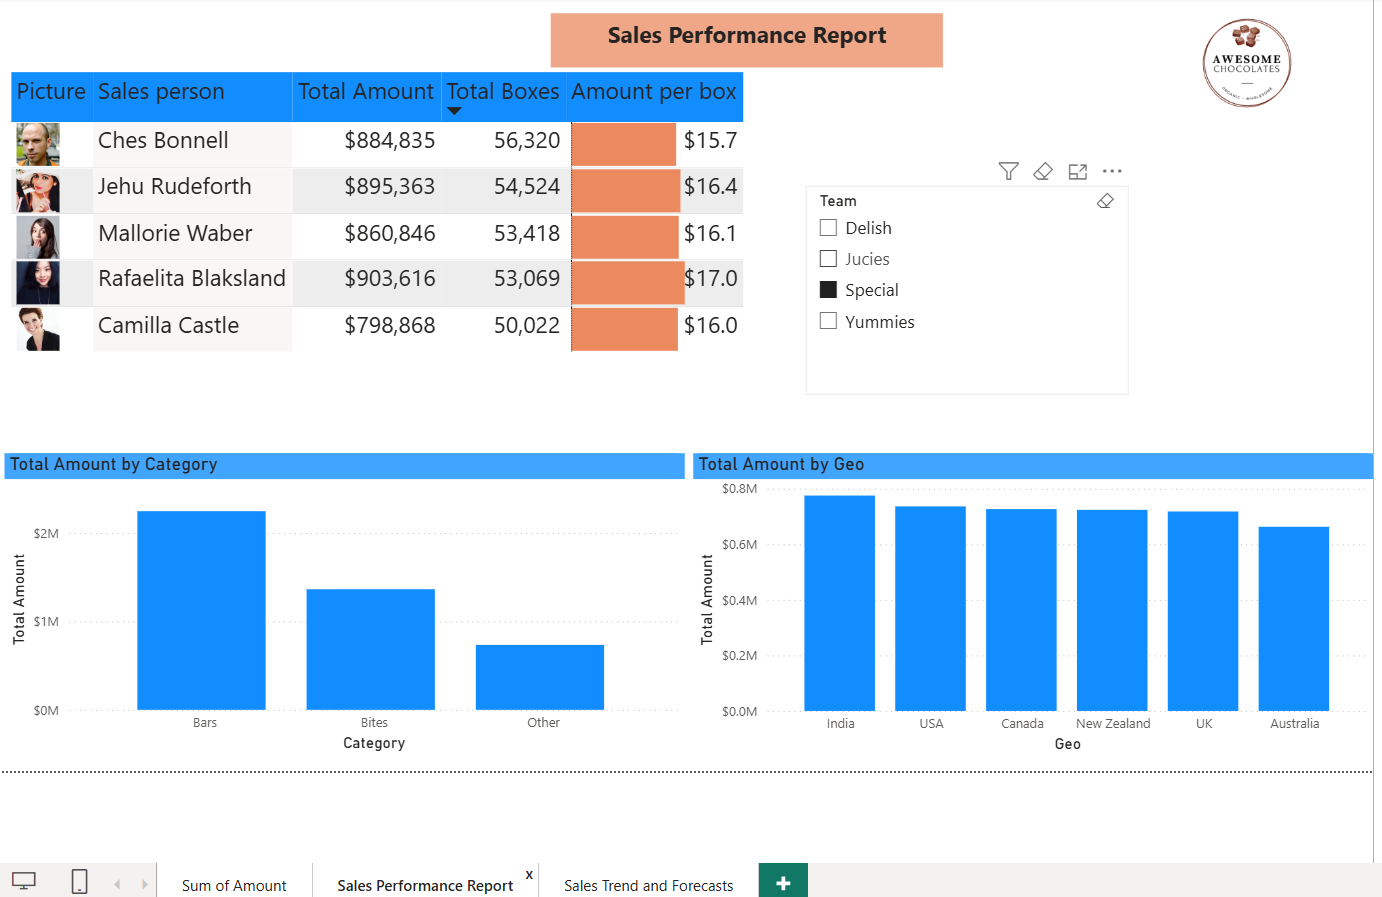

The dashboard page shown, as its layout file describes it:
{"tool":"powerbi","page":{"name":"Sales Performance Report","canvas":[1280,720],"ordinal":1},"visuals":[{"type":"tableEx","fields":{"Values":["people.Picture","people.Sales person","sales.Total Amount","sales.Total Boxes","sales.Amount per box"]},"box":[7,65.1,745.4,355.8],"z":0},{"type":"slicer","fields":{"Values":["people.Team"]},"box":[752.3,175.6,300,194.2],"z":1000},{"type":"columnChart","fields":{"Category":["products.Category"],"Y":["sales.Total Amount"]},"box":[6.9,424,632.6,282.7],"z":2000},{"type":"columnChart","fields":{"Category":["locations.Geo"],"Y":["sales.Total Amount"]},"box":[647.7,424.4,632.6,283.7],"z":3000},{"type":"textbox","box":[515.1,15.1,365.1,50],"z":4000},{"type":"image","box":[1045.4,15.1,234.9,93],"z":5000}]}

Visuals, with their boxes on the page's 1280x720 design canvas (x1, y1, x2, y2). These are canvas units, not pixel positions in the 1382x897 screenshot, which may show the page scaled, cropped or inside an application window:
tableEx - people.Picture x people.Sales person: [left=7, top=65, right=752, bottom=421]
slicer - people.Team: [left=752, top=176, right=1052, bottom=370]
columnChart - products.Category x sales.Total Amount: [left=7, top=424, right=640, bottom=707]
columnChart - locations.Geo x sales.Total Amount: [left=648, top=424, right=1280, bottom=708]
textbox: [left=515, top=15, right=880, bottom=65]
image: [left=1045, top=15, right=1280, bottom=108]
